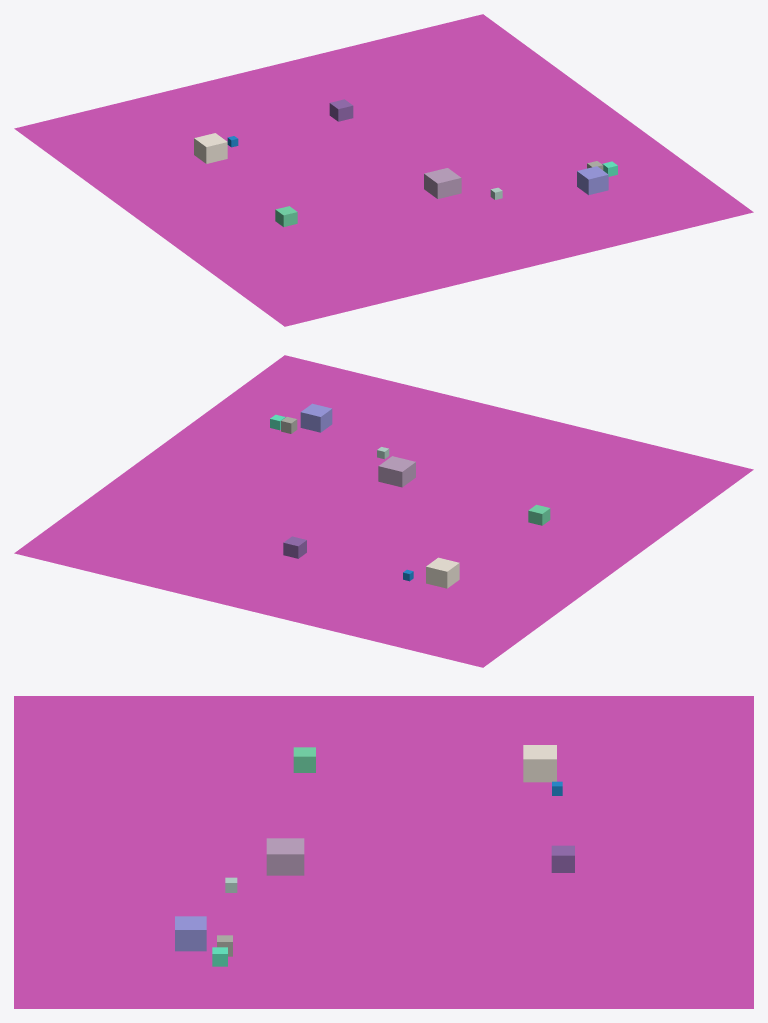
3 views of the same model, one above another, from view 1: azimuth 30°, elevation 25°; view 2: azimuth 150°, elevation 25°; view 3: azimuth 270°, elevation 25° (orthographic). The views are drawn at different scales.
Parts seen in each view (by area): view 1: Chunk_-1_-1; view 2: Chunk_-1_-1; view 3: Chunk_-1_-1.
Boxes of the visible parts, x1,y1,x2,y2 form: Chunk_-1_-1: [14, 14, 753, 326]; Chunk_-1_-1: [14, 355, 753, 667]; Chunk_-1_-1: [14, 696, 753, 1008].
Size of the model in its own units: 1500 by 80.18 by 1500.
